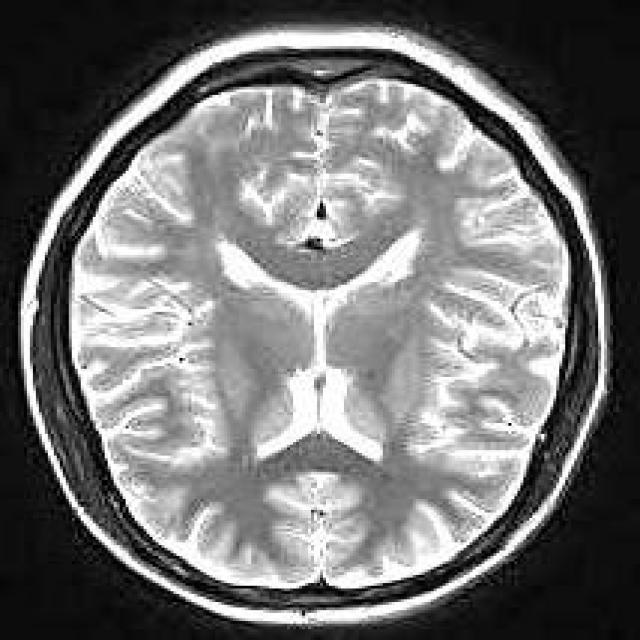notumor: (18, 27, 604, 618)
